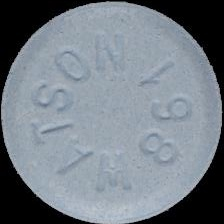21695-734: (0, 0, 224, 224)
